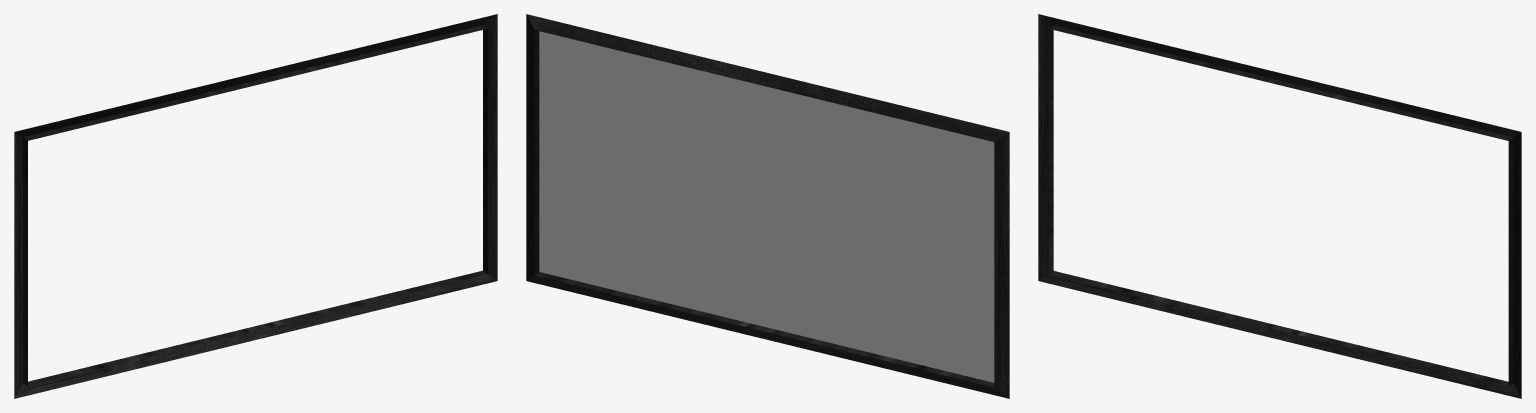
The model's file is HorizontalRectangleFrame.glb.
3 views of the same model, side by side, from view 1: azimuth 30°, elevation 25°; view 2: azimuth 150°, elevation 25°; view 3: azimuth 330°, elevation 25° (orthographic).
Parts seen in each view (by area): view 1: Frame (1); view 2: Picture (1), Frame (1); view 3: Frame (1).
Part boxes in pixels (x1,y1,x2,y2): Frame (1): (14,14,497,398); Picture (1): (539,31,994,382); Frame (1): (526,14,1009,398); Frame (1): (1038,14,1521,398).
Bounding box in the file's own units: 1.09 × 0.5732 × 0.0189.
Materials: 1 (1 with a texture image).
